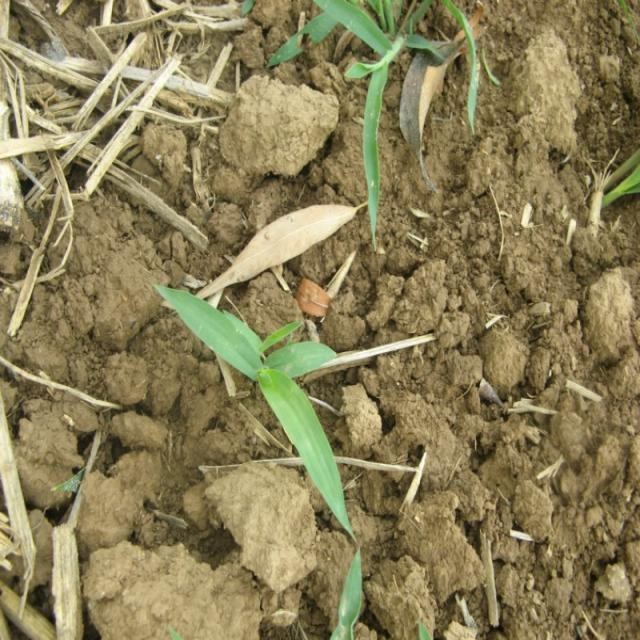bg: (148, 276, 357, 535)
